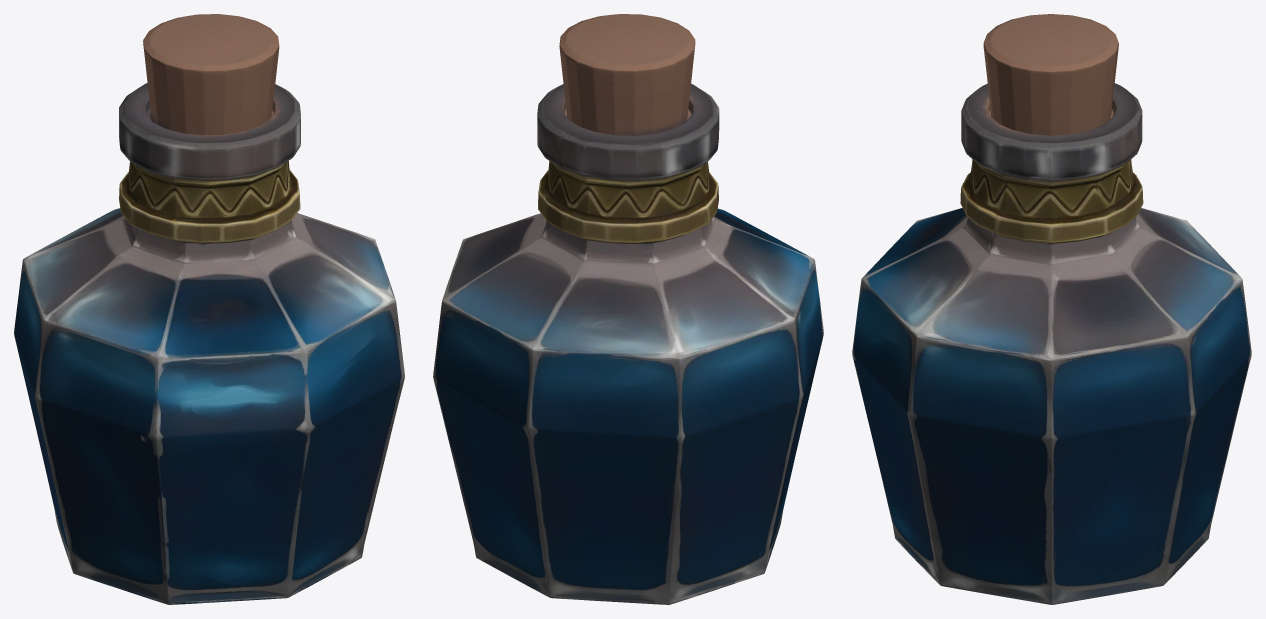
Rendered from StrongManaPotion.glb.
3 renders of one model, left to right at view 1: azimuth 30°, elevation 25°; view 2: azimuth 150°, elevation 25°; view 3: azimuth 270°, elevation 25°, orthographic.
Visible parts, largest first — view 1: node_0; view 2: node_0; view 3: node_0.
Boxes of the visible parts, x1,y1,x2,y2 form: node_0: [14, 14, 404, 604]; node_0: [433, 14, 823, 604]; node_0: [852, 14, 1251, 604].
Bounding box in the file's own units: 0.7532 × 1.04 × 0.7523.
Materials: 1 (1 with a texture image).
